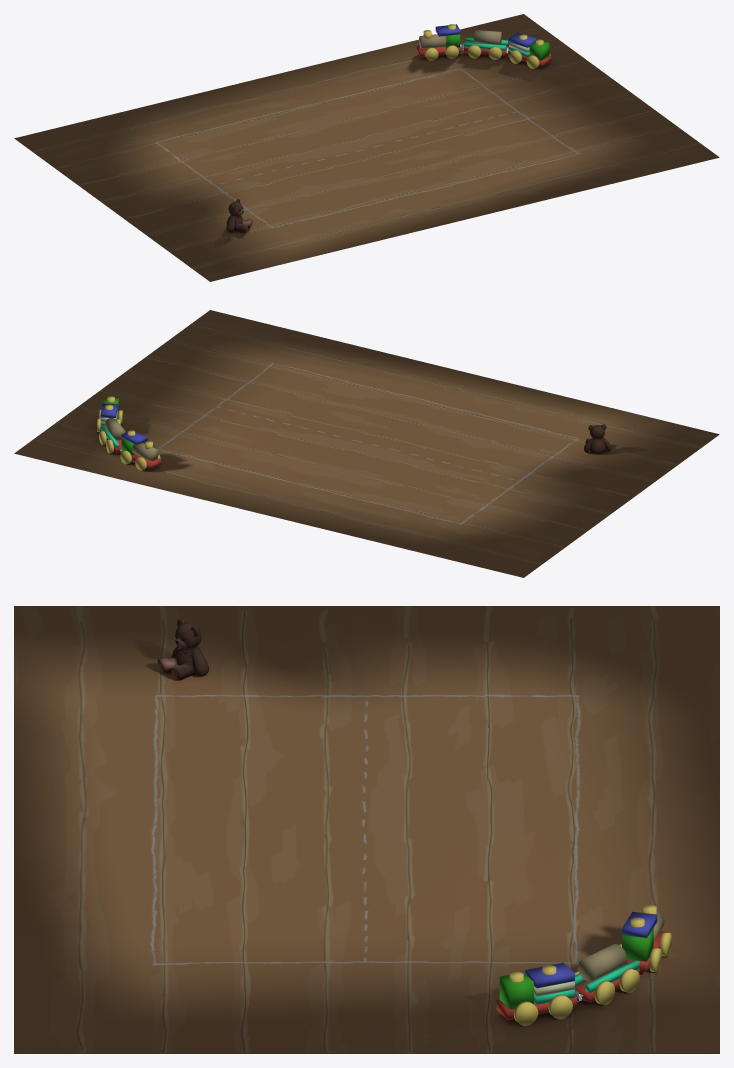
The model's file is temporary grid.glb.
The picture shows the model from 3 angles, top to bottom: view 1: azimuth 30°, elevation 25°; view 2: azimuth 150°, elevation 25°; view 3: azimuth 270°, elevation 25°; orthographic projection. The views are drawn at different scales.
Parts seen in each view (by area): view 1: Plane, Cylinder.006, Cube.018; view 2: Plane, Cylinder.006, Cube.018; view 3: Plane, Cylinder.006, Cube.018.
Part boxes in pixels (x1,y1,x2,y2): Plane: [14, 14, 719, 281]; Cylinder.006: [416, 24, 551, 68]; Cube.018: [226, 199, 252, 232]; Plane: [14, 310, 719, 577]; Cylinder.006: [97, 396, 161, 470]; Cube.018: [584, 424, 611, 453]; Plane: [14, 606, 719, 1053]; Cylinder.006: [496, 904, 671, 1025]; Cube.018: [157, 619, 208, 680].
Bounding box in the file's own units: 101 × 5.31 × 67.53.
Materials: 10 (2 with a texture image).
